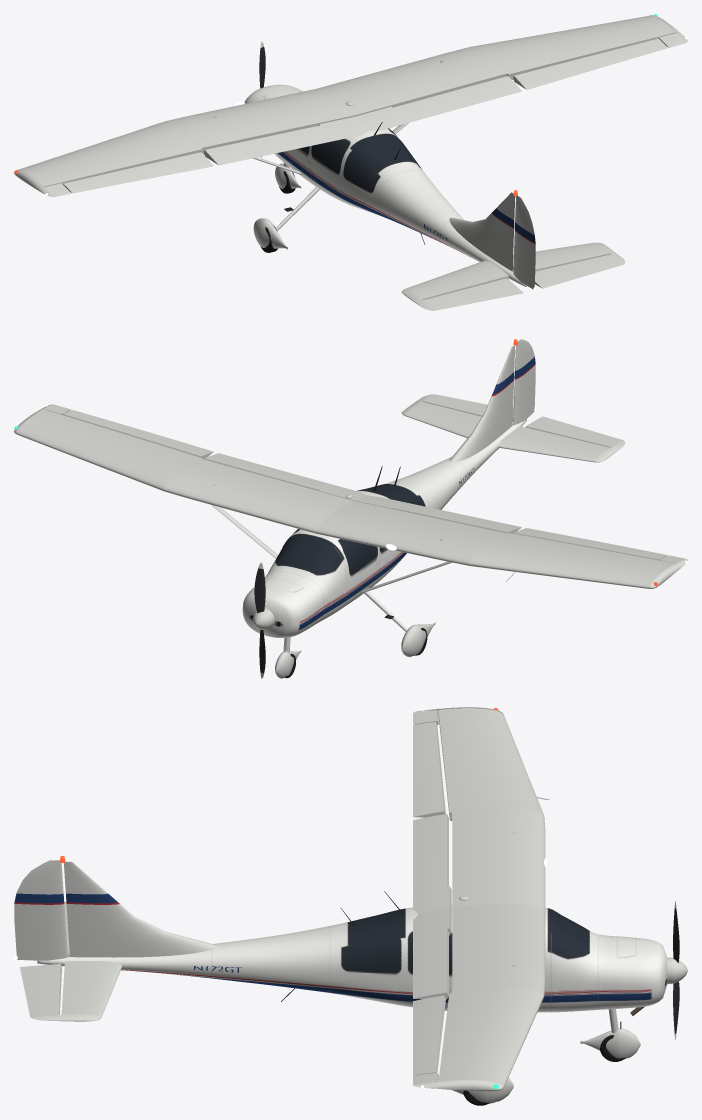
The model's file is small_plane.glb.
3 renders of one model, top to bottom at view 1: azimuth 30°, elevation 25°; view 2: azimuth 150°, elevation 25°; view 3: azimuth 270°, elevation 25°, orthographic. The views are drawn at different scales.
Parts seen in each view (by area): view 1: PLANE_body, FLAP_R, AILERON_R, FLAP_L, AILERON_L, RUDDER, ELEVATOR_L, ELEVATOR_R; view 2: PLANE_body, RUDDER, AILERON_R, FLAP_R, AILERON_L, FLAP_L, ELEVATOR_L, PROPELLER, ELEVATOR_R; view 3: PLANE_body, RUDDER, AILERON_L, FLAP_L, FLAP_R, AILERON_R, ELEVATOR_R, PROPELLER.
Part boxes in pixels (bbox=[...]): PLANE_body: bbox=[14, 14, 687, 310]; FLAP_R: bbox=[393, 76, 521, 122]; AILERON_R: bbox=[513, 38, 667, 89]; FLAP_L: bbox=[204, 125, 333, 165]; AILERON_L: bbox=[63, 152, 213, 193]; RUDDER: bbox=[513, 195, 535, 289]; ELEVATOR_L: bbox=[423, 278, 523, 310]; ELEVATOR_R: bbox=[535, 254, 623, 288]; PLANE_body: bbox=[14, 339, 687, 678]; RUDDER: bbox=[513, 339, 535, 424]; AILERON_R: bbox=[63, 410, 213, 459]; FLAP_R: bbox=[204, 453, 333, 491]; AILERON_L: bbox=[513, 528, 667, 560]; FLAP_L: bbox=[392, 502, 521, 533]; ELEVATOR_L: bbox=[525, 416, 623, 447]; PROPELLER: bbox=[252, 562, 274, 678]; ELEVATOR_R: bbox=[422, 394, 513, 421]; PLANE_body: bbox=[14, 707, 667, 1105]; RUDDER: bbox=[14, 860, 67, 960]; AILERON_L: bbox=[413, 722, 445, 817]; FLAP_L: bbox=[413, 814, 448, 892]; FLAP_R: bbox=[413, 929, 448, 999]; AILERON_R: bbox=[413, 995, 445, 1075]; ELEVATOR_R: bbox=[20, 964, 61, 1017]; PROPELLER: bbox=[667, 901, 687, 1040].
Bounding box in the file's own units: 11.02 × 2.77 × 8.29.
18 materials, 1 textured.
